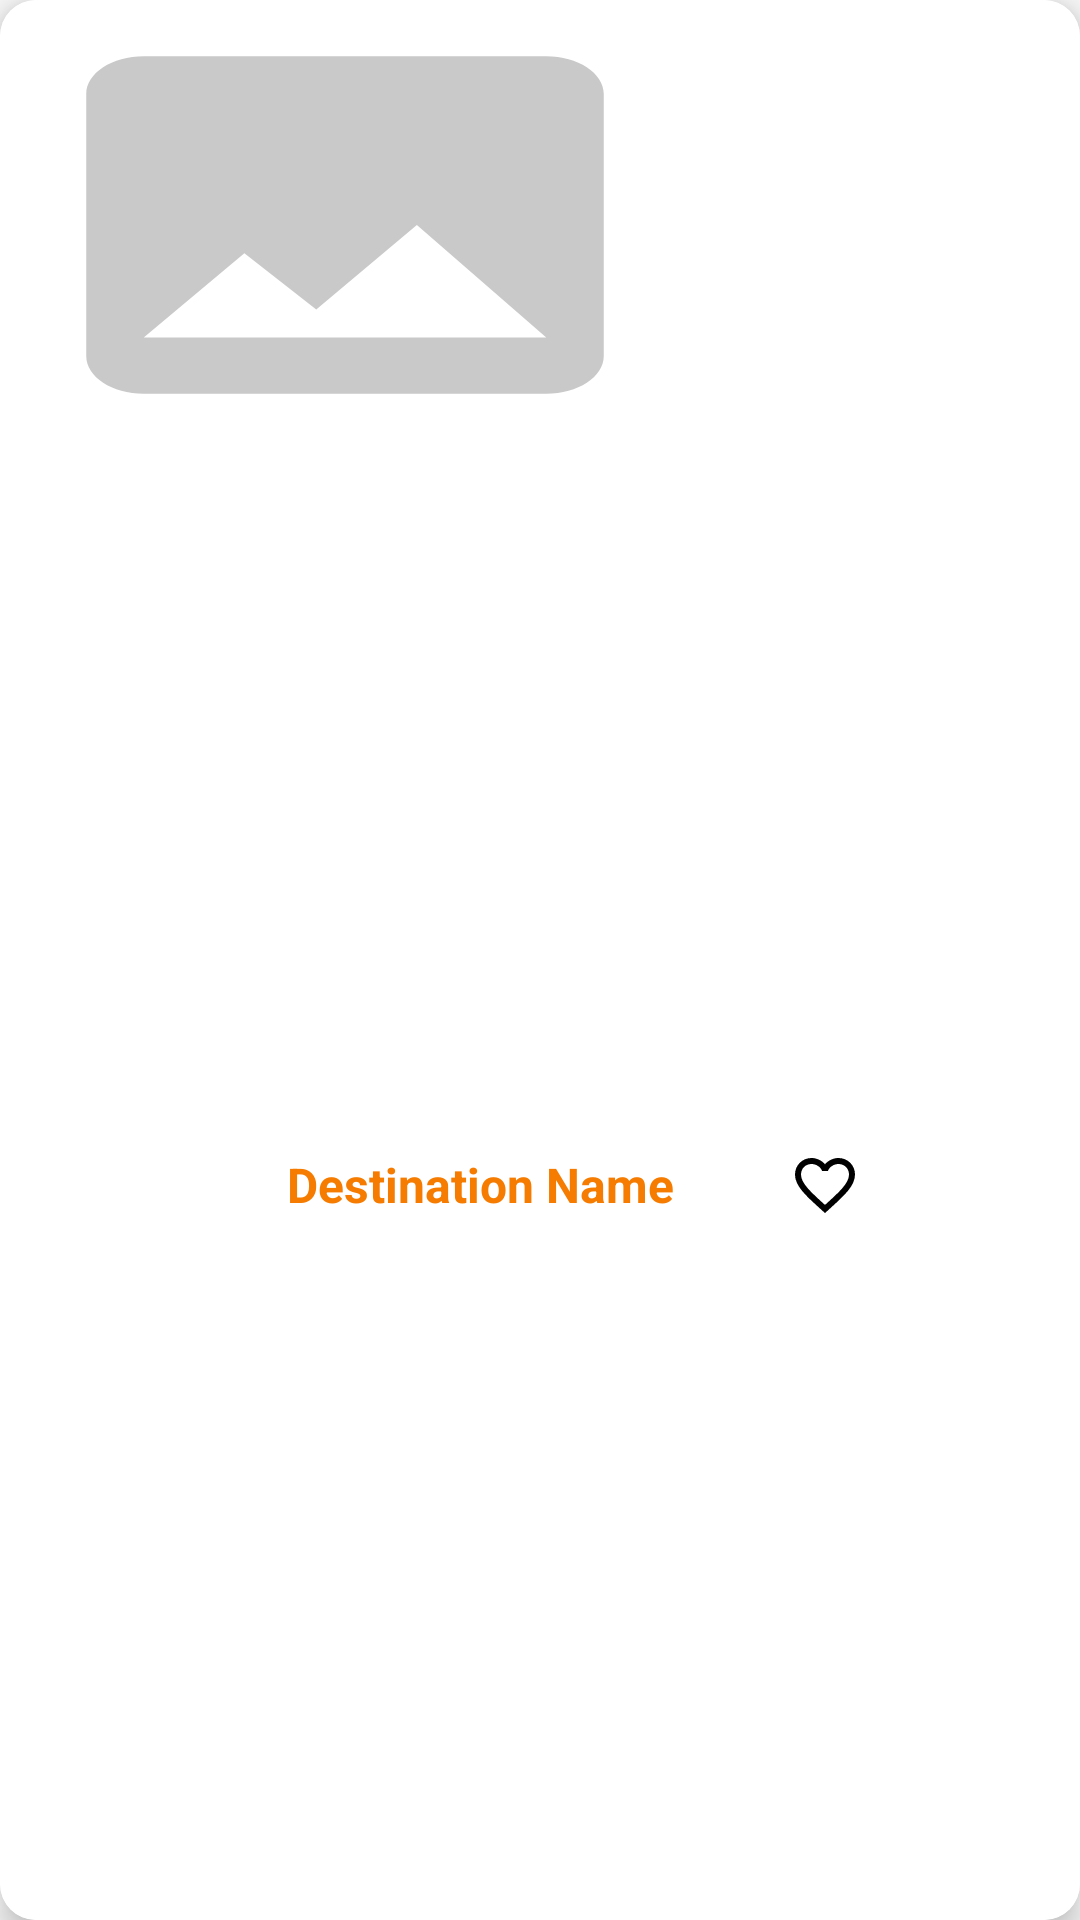

Where icons sit on this 1080×1920 app screen, as [x1, y1, x2, y2]:
Favorite Button: [795, 1158, 855, 1213]
